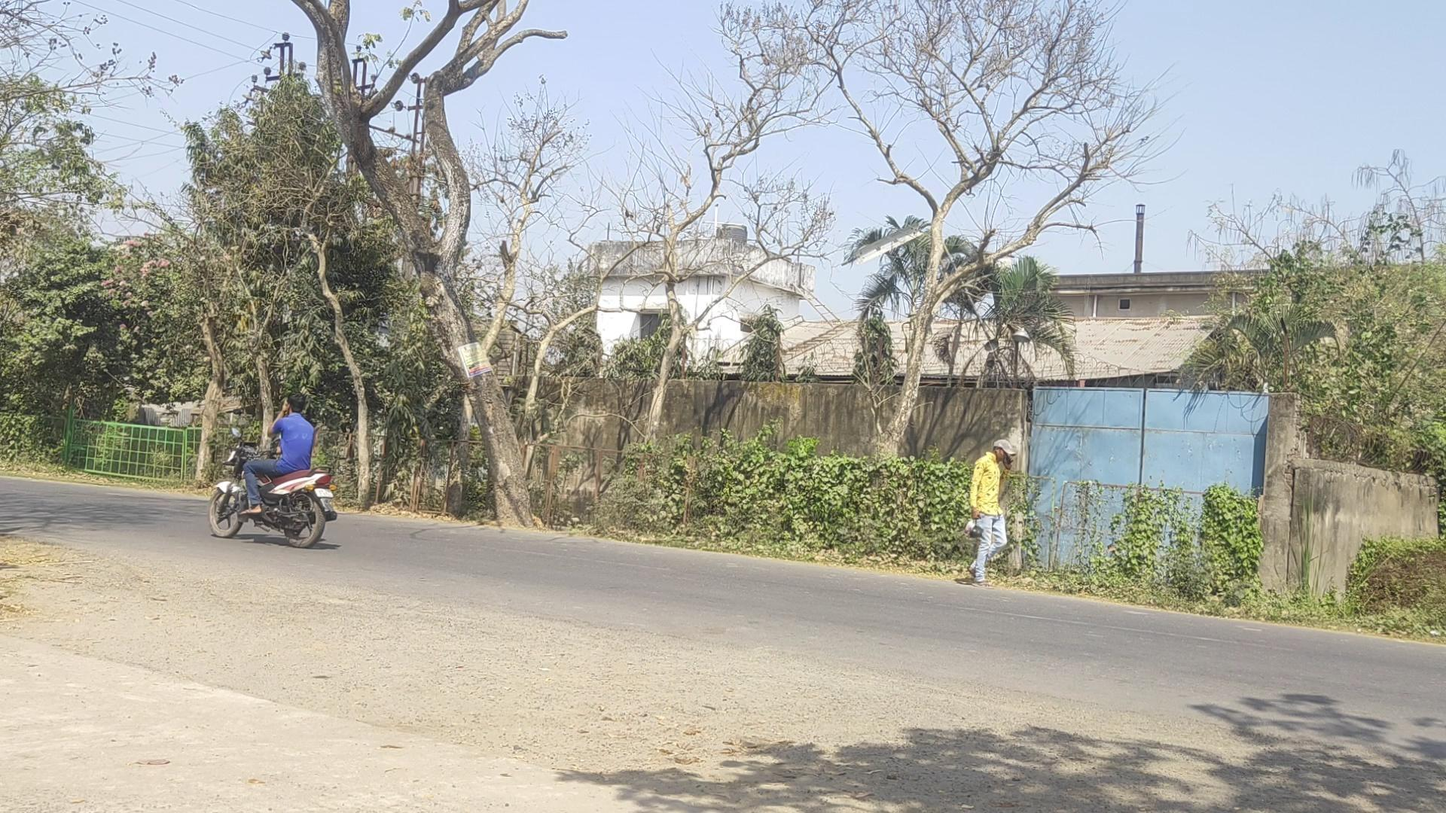bike: (209, 391, 337, 549)
